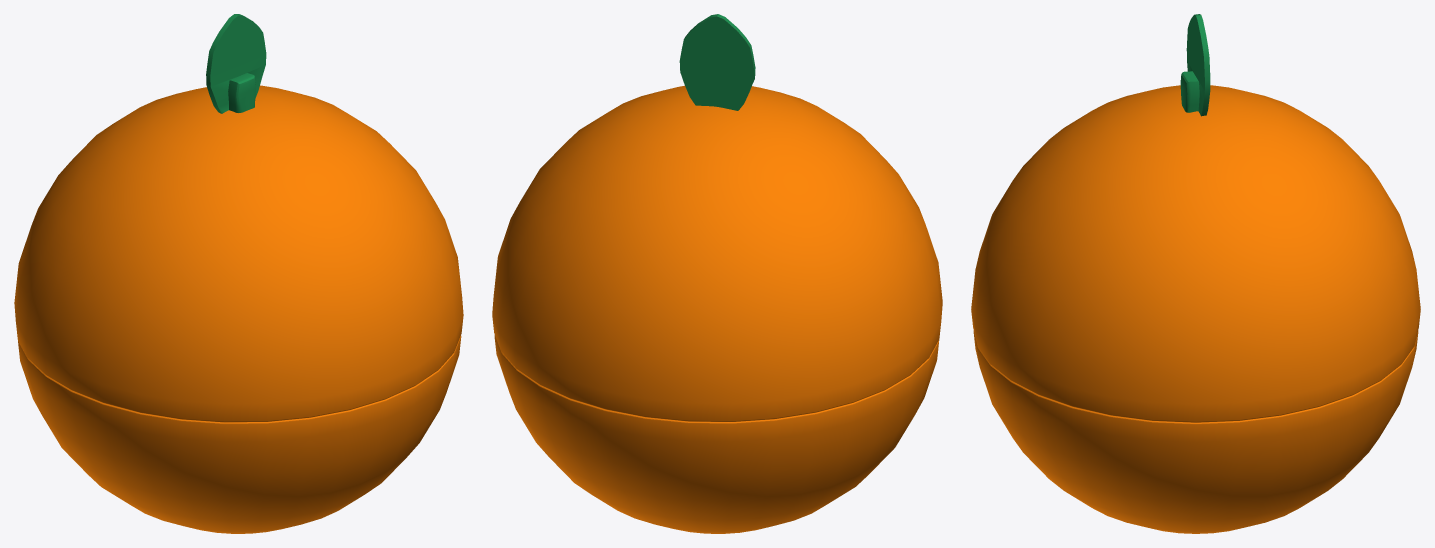
File: Split_OrangeToy.fbx
3 renders of one model, left to right at view 1: azimuth 30°, elevation 25°; view 2: azimuth 150°, elevation 25°; view 3: azimuth 270°, elevation 25°, orthographic.
Visible parts, largest first — view 1: Orange.001, Orange; view 2: Orange.001, Orange; view 3: Orange.001, Orange.
Part boxes in pixels (box(x1,y1,x2,y2)): Orange.001: box(14, 14, 463, 422); Orange: box(18, 336, 461, 533); Orange.001: box(492, 14, 942, 421); Orange: box(494, 335, 939, 533); Orange.001: box(971, 14, 1420, 422); Orange: box(973, 331, 1418, 533).
Bounding box in the file's own units: 2 × 2.44 × 2.
